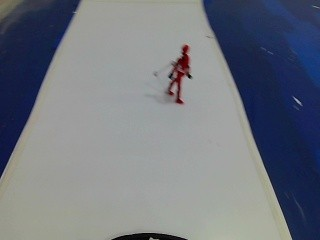pedestrian: (152, 41, 194, 106)
